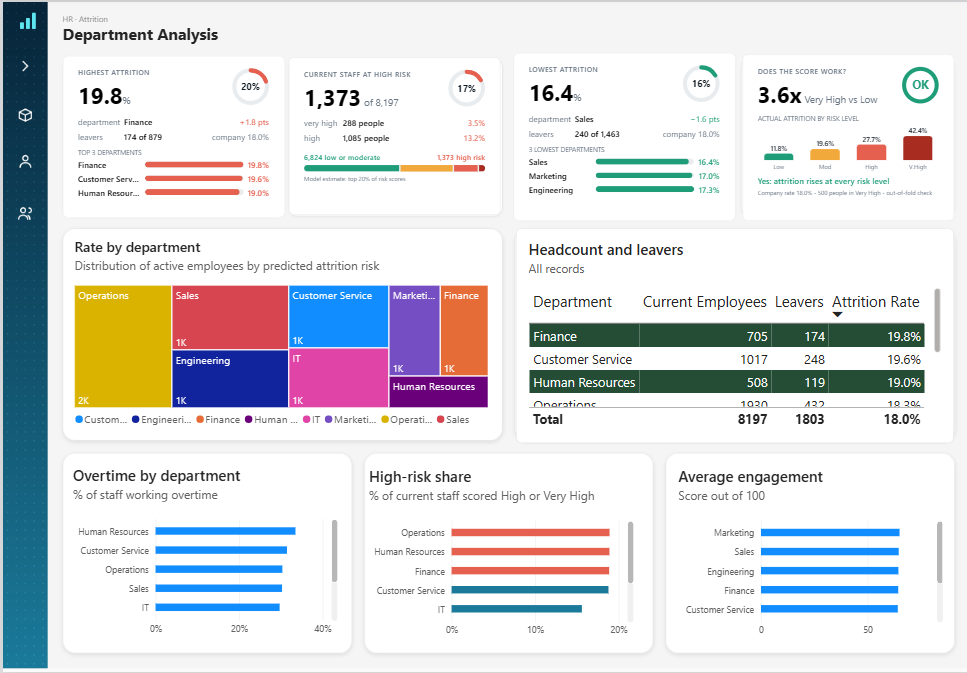

The page's visual inventory and layout, read from the dashboard file:
{"tool":"powerbi","page":{"name":"Department ","canvas":[1300,900],"ordinal":2},"visuals":[{"type":"textbox","box":[80.7,27.5,220.4,41.3],"z":0},{"type":"textbox","box":[80,12,220,22],"z":2000},{"type":"image","box":[17.7,271.5,24,24],"z":3000},{"type":"image","box":[17.7,202.7,24,24],"z":4000},{"type":"image","box":[17.7,139.7,24,24],"z":5000},{"type":"image","box":[18,74,24,24],"z":6000},{"type":"actionButton","box":[10,70,40,32],"z":7000},{"type":"treemap","title":"Rate by department","fields":{"Details":["Employee Data.Department"],"Values":["All Measures.Current Employees"]},"box":[80.7,301.1,588.3,289.2],"z":9000},{"type":"clusteredBarChart","title":"Overtime by department","fields":{"Category":["Employee Data.Department"],"Y":["All Measures.Overtime %"]},"box":[78.7,608,387.6,263.7],"z":10000},{"type":"htmlContent443BE3AD55E043BF878BED274D3A6865","fields":{"content":["All Measures.KPI High Risk HTML"]},"box":[383.7,74.8,285.3,212.5],"z":12000},{"type":"htmlContent443BE3AD55E043BF878BED274D3A6865","fields":{"content":["All Measures.KPI Score Check HTML"]},"box":[993.7,70.8,285.3,224.3],"z":13000},{"type":"tableEx","title":"Headcount and leavers","fields":{"Values":["Employee Data.Department","All Measures.Current Employees","All Measures.Leavers","All Measures.Attrition Rate"]},"box":[690.7,305,588.3,289.2],"z":14000},{"type":"clusteredBarChart","title":"High-risk share","fields":{"Category":["Employee Data.Department"],"Y":["All Measures.High-Risk Share"]},"box":[476.2,610,387.6,263.7],"z":15000},{"type":"htmlContent443BE3AD55E043BF878BED274D3A6865","fields":{"content":["All Measures.KPI Highest Dept HTML"]},"box":[80.7,72.8,299.1,218.4],"z":17000},{"type":"htmlContent443BE3AD55E043BF878BED274D3A6865","fields":{"content":["All Measures.KPI Lowest Dept HTML"]},"box":[686.7,68.9,299.1,226.3],"z":18000},{"type":"clusteredBarChart","title":"Average engagement","fields":{"Category":["Employee Data.Department"],"Y":["All Measures.Avg Engagement"]},"box":[891.4,610,387.6,263.7],"z":19000}]}

Visuals, with their boxes on the page's 1300x900 design canvas (x1, y1, x2, y2). These are canvas units, not pixel positions in the 967x673 screenshot, which may show the page scaled, cropped or inside an application window:
textbox: [left=81, top=28, right=301, bottom=69]
textbox: [left=80, top=12, right=300, bottom=34]
image: [left=18, top=272, right=42, bottom=296]
image: [left=18, top=203, right=42, bottom=227]
image: [left=18, top=140, right=42, bottom=164]
image: [left=18, top=74, right=42, bottom=98]
actionButton: [left=10, top=70, right=50, bottom=102]
"Rate by department" treemap: [left=81, top=301, right=669, bottom=590]
"Overtime by department" clusteredBarChart: [left=79, top=608, right=466, bottom=872]
htmlContent443BE3AD55E043BF878BED274D3A6865 - All Measures.KPI High Risk HTML: [left=384, top=75, right=669, bottom=287]
htmlContent443BE3AD55E043BF878BED274D3A6865 - All Measures.KPI Score Check HTML: [left=994, top=71, right=1279, bottom=295]
"Headcount and leavers" tableEx: [left=691, top=305, right=1279, bottom=594]
"High-risk share" clusteredBarChart: [left=476, top=610, right=864, bottom=874]
htmlContent443BE3AD55E043BF878BED274D3A6865 - All Measures.KPI Highest Dept HTML: [left=81, top=73, right=380, bottom=291]
htmlContent443BE3AD55E043BF878BED274D3A6865 - All Measures.KPI Lowest Dept HTML: [left=687, top=69, right=986, bottom=295]
"Average engagement" clusteredBarChart: [left=891, top=610, right=1279, bottom=874]
